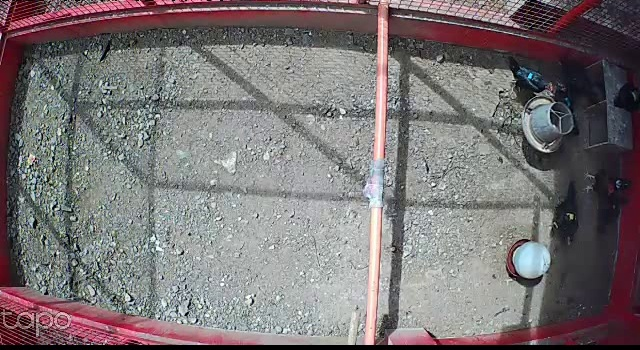Chicken: (505, 55, 554, 99), (551, 182, 581, 250), (550, 80, 585, 136), (592, 197, 631, 241), (608, 79, 640, 122)
Drinker: (505, 239, 552, 278)
Feeder: (521, 93, 576, 154)
Rooster: (582, 166, 638, 197)
Saddle_Color_Blue: (527, 72, 536, 81)
Saddle_Color_Yellow: (565, 213, 576, 220)
Saddle_Color_YellowGreen: (630, 90, 640, 102)
